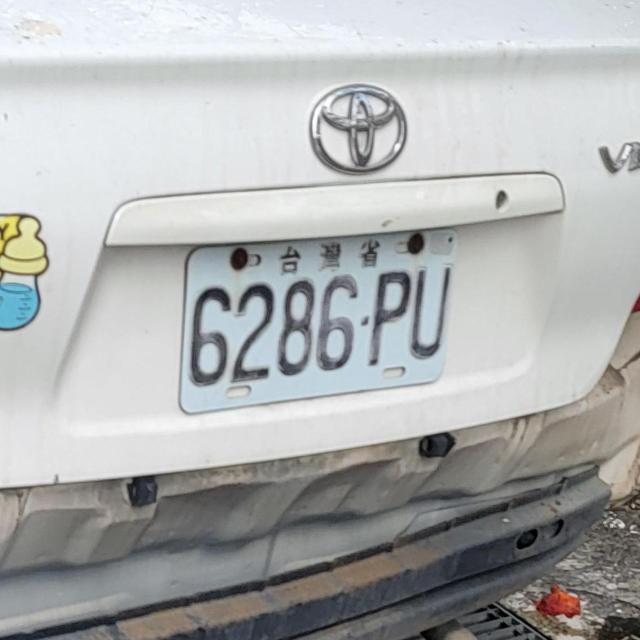W: (168, 208, 468, 441)
